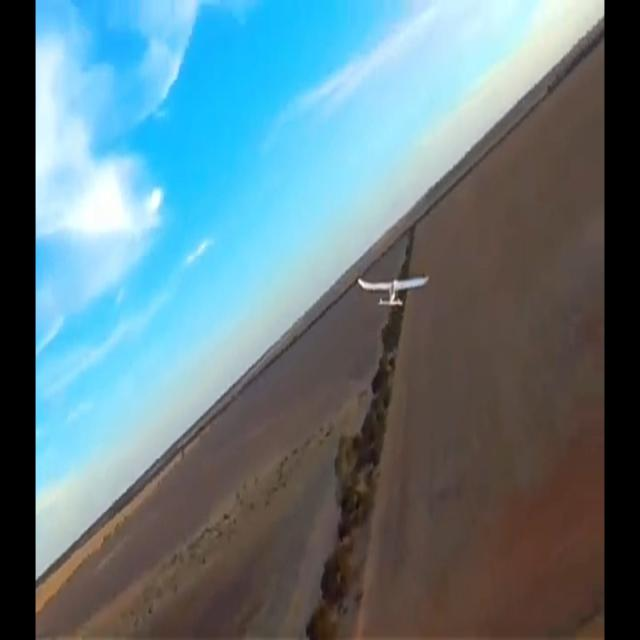iha: (386, 274, 389, 308)
